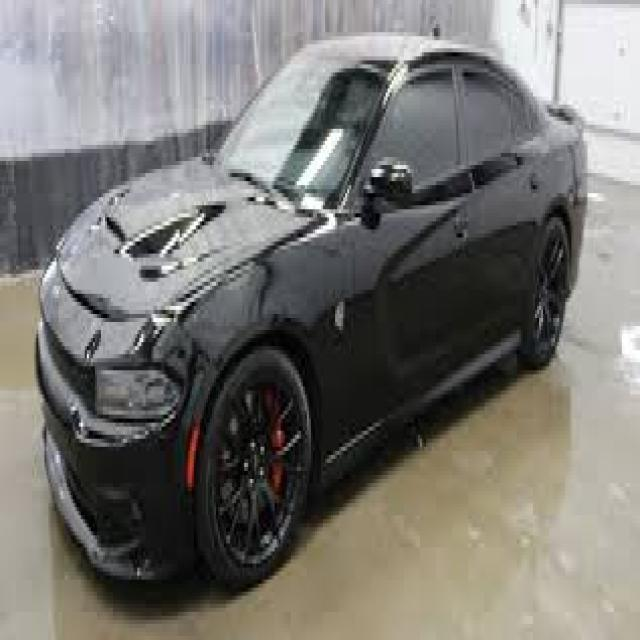minor: (114, 297, 248, 387)
